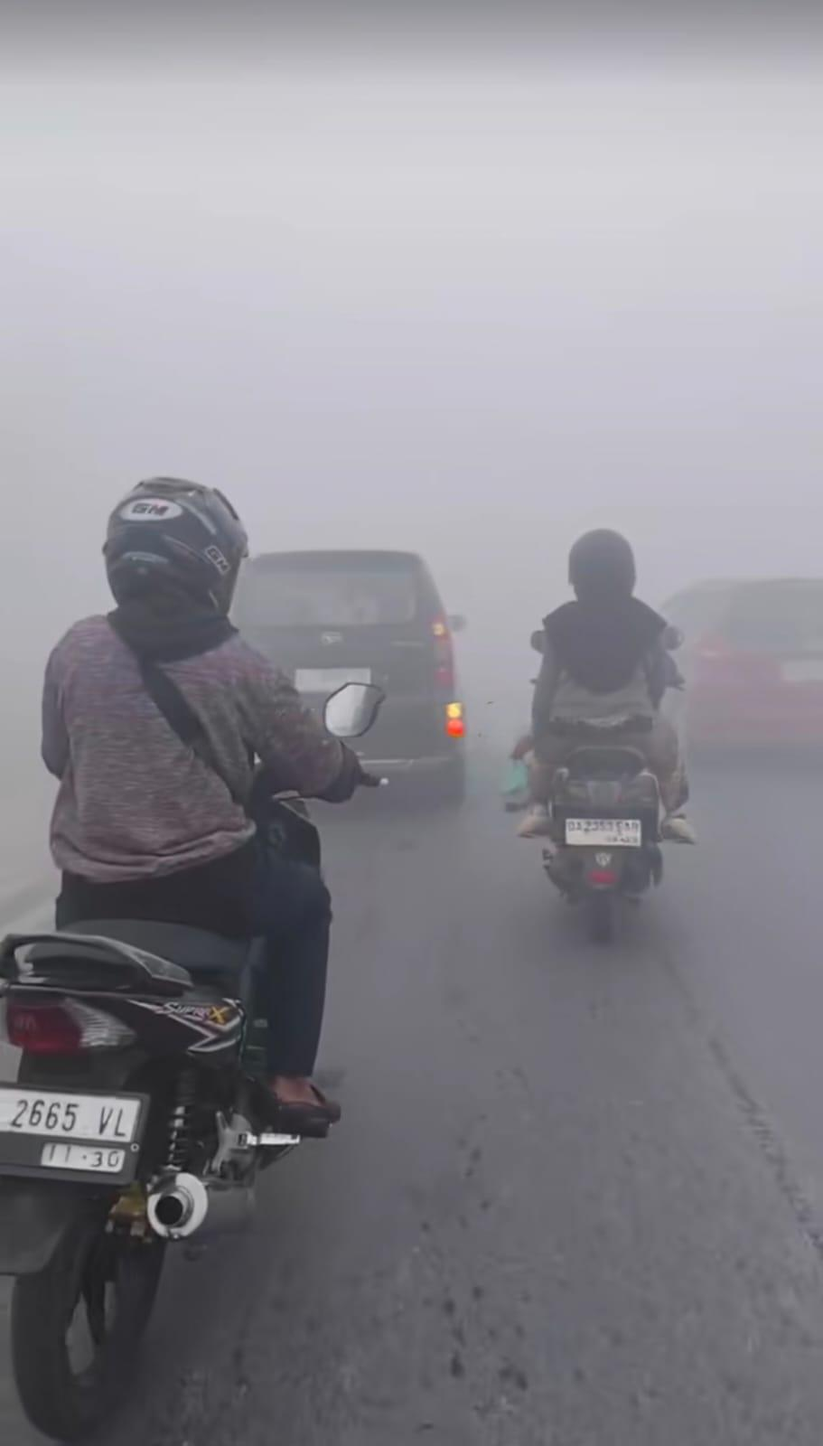Deteksi-Objek-Citra-Berasap: (0, 0, 822, 937)
Kendaraan: (0, 681, 388, 1443), (226, 549, 468, 822), (528, 630, 687, 944), (654, 574, 822, 765)
Manusia: (40, 477, 374, 1132), (510, 528, 697, 845)
